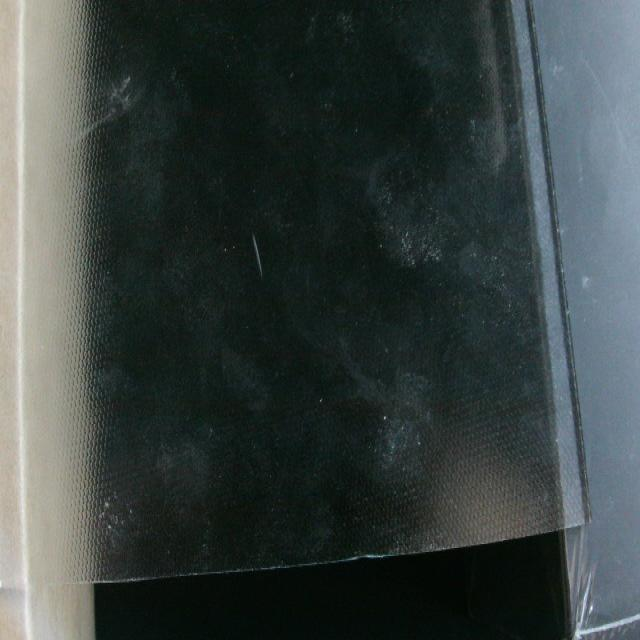edge_chip: (342, 538, 403, 570)
scratch: (245, 218, 267, 295)
